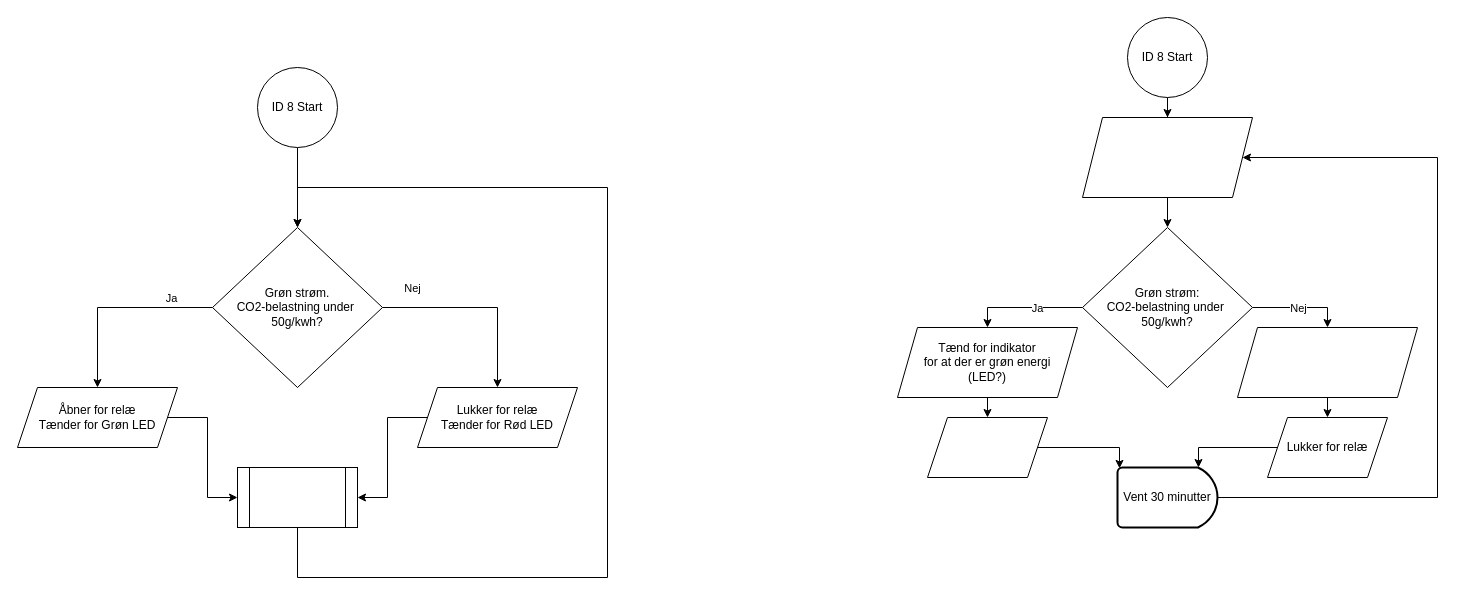
Some shapes in this 1463 by 603 pixel diagram are drawn without their labels. Here are the shapes that lost their labels. From the top down, the centre of each, then its label:
the point at 1167,157: Hent data fra API ang. CO2-belastning af strømproduktion
the point at 1327,362: Sluk for indikator for at der er grøn energi (LED?)
the point at 987,447: Tænder for relæ
the point at 297,497: Vent 30min
